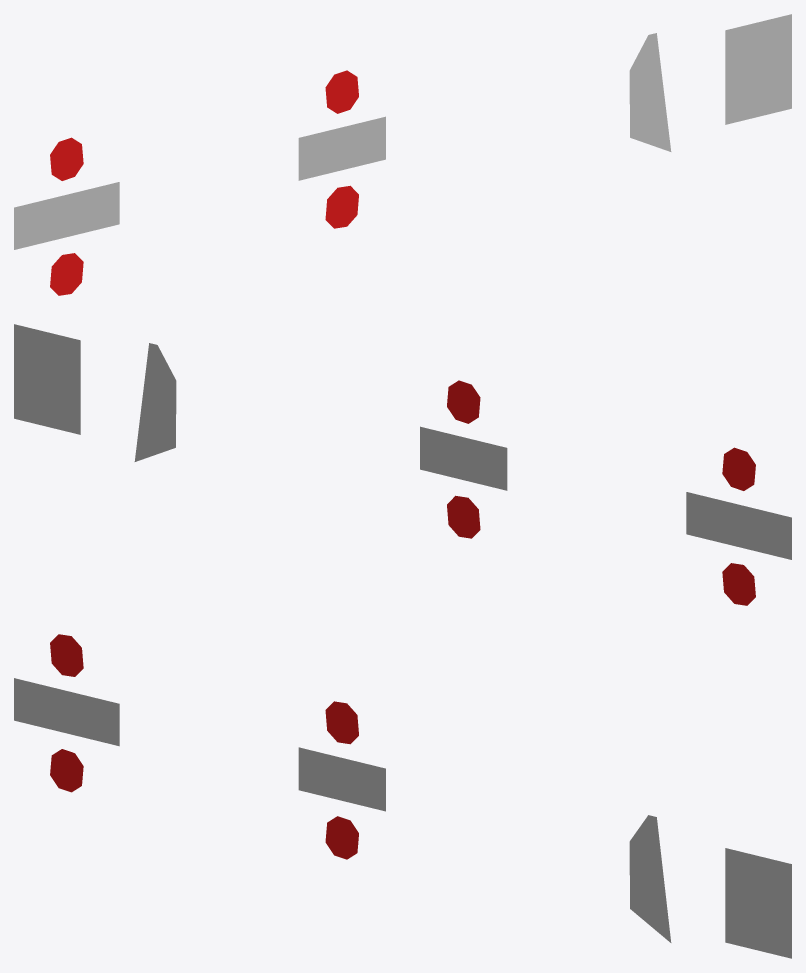
Rendered from SM_decal.FBX.
The picture shows the model from 3 angles, top to bottom: view 1: azimuth 30°, elevation 25°; view 2: azimuth 150°, elevation 25°; view 3: azimuth 330°, elevation 25°; orthographic projection.
Parts seen in each view (by area): view 1: windows_01, windows_04, windows_02, windows_03; view 2: windows_01, windows_04, windows_02, windows_03; view 3: windows_01, windows_04, windows_02, windows_03.
Part boxes in pixels (box(x1,y1,x2,y2)): windows_01: box(14, 137, 119, 295); windows_04: box(725, 14, 791, 124); windows_02: box(298, 70, 385, 228); windows_03: box(629, 33, 671, 151); windows_01: box(686, 447, 791, 605); windows_04: box(14, 324, 80, 434); windows_02: box(420, 380, 507, 538); windows_03: box(134, 343, 176, 461); windows_01: box(14, 634, 119, 792); windows_04: box(725, 848, 791, 958); windows_02: box(298, 701, 385, 859); windows_03: box(629, 815, 671, 942).
Bounding box in the file's own units: 732 × 145 × 0.000189.
